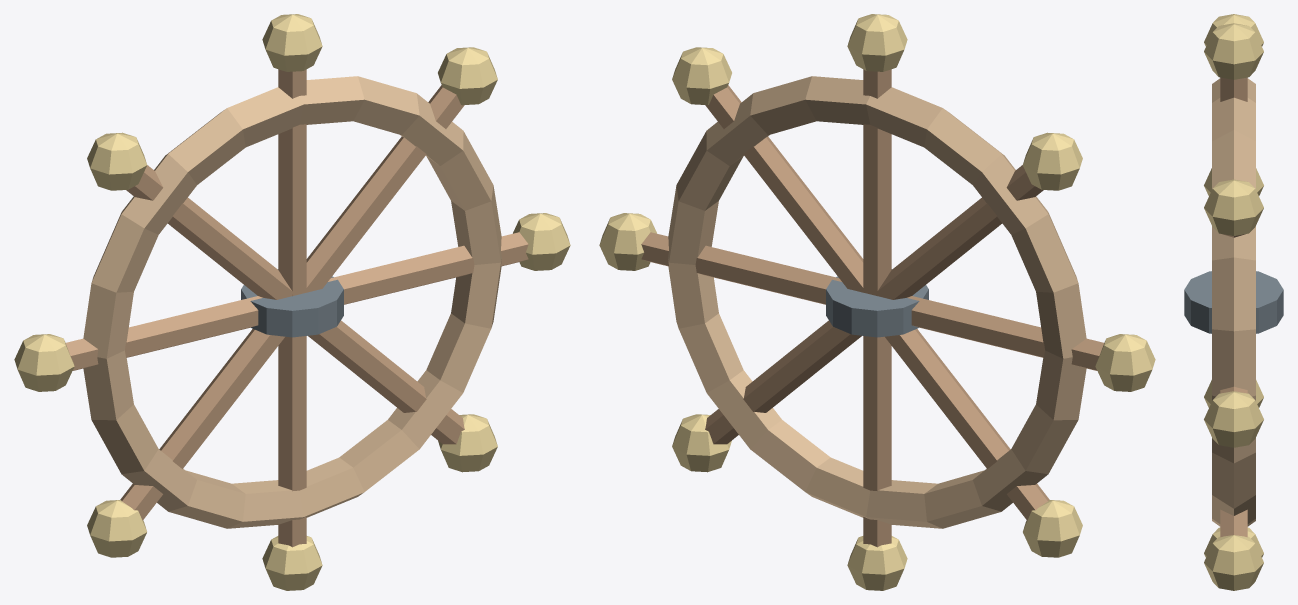
Rendered from timon.glb.
The picture shows the model from 3 angles, left to right: view 1: azimuth 30°, elevation 25°; view 2: azimuth 150°, elevation 25°; view 3: azimuth 270°, elevation 25°; orthographic projection. The views are drawn at different scales.
Parts seen in each view (by area): view 1: timon; view 2: timon; view 3: timon.
Boxes of the visible parts, left/top/right/bottom form: timon: left=14, top=14, right=570, bottom=590; timon: left=599, top=14, right=1155, bottom=590; timon: left=1184, top=14, right=1283, bottom=590.
Bounding box in the file's own units: 1.73 × 1.73 × 0.28.
